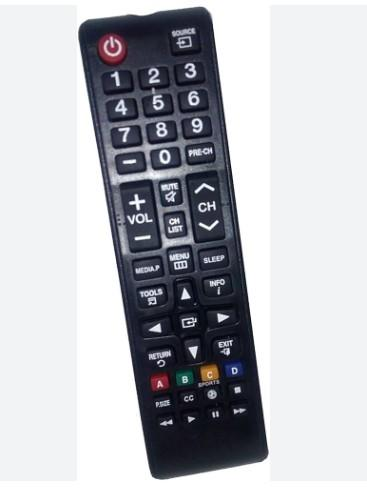Remote control: (78, 7, 270, 483)
